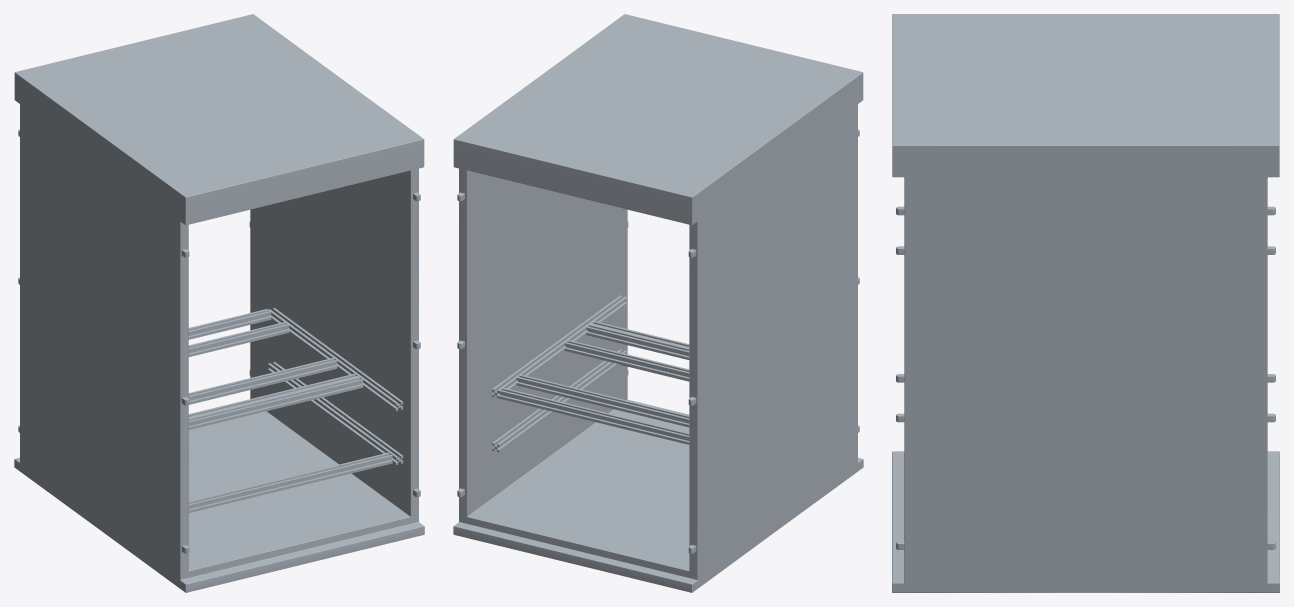
Rendered from LBS_CASE.fbx.
The picture shows the model from 3 angles, left to right: view 1: azimuth 30°, elevation 25°; view 2: azimuth 150°, elevation 25°; view 3: azimuth 270°, elevation 25°; orthographic projection. The views are drawn at different scales.
Parts seen in each view (by area): view 1: LBS_CASE; view 2: LBS_CASE; view 3: LBS_CASE.
Part boxes in pixels (<box>): LBS_CASE: <box>14,14,424,592</box>; LBS_CASE: <box>453,14,863,592</box>; LBS_CASE: <box>892,14,1279,592</box>.
Bounding box in the file's own units: 1.29 × 2.04 × 1.61.
1 material, 1 textured.
